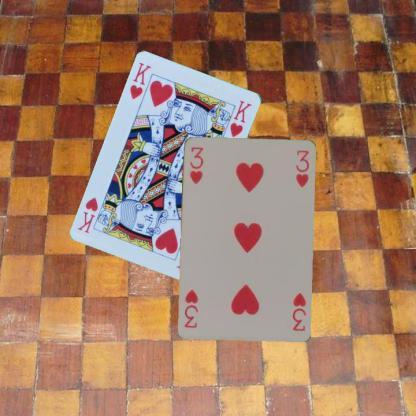3h: (289, 290, 308, 332), (186, 144, 204, 185)
Kh: (128, 60, 152, 101)
